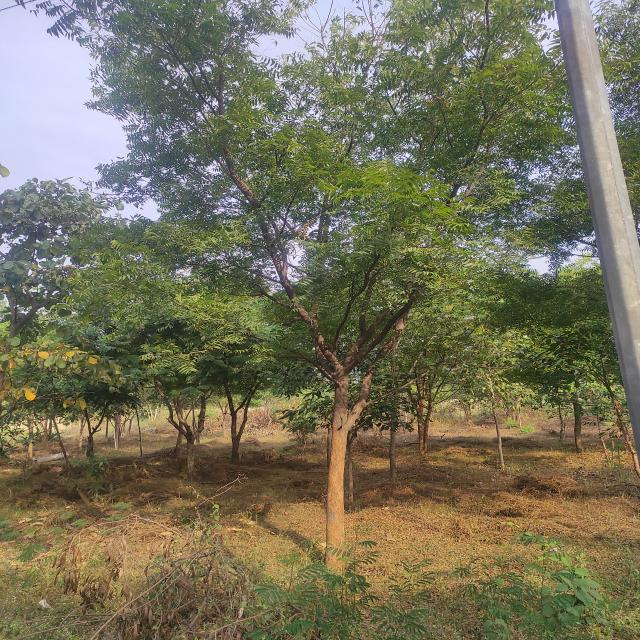Neem Tree: (126, 9, 541, 527)
